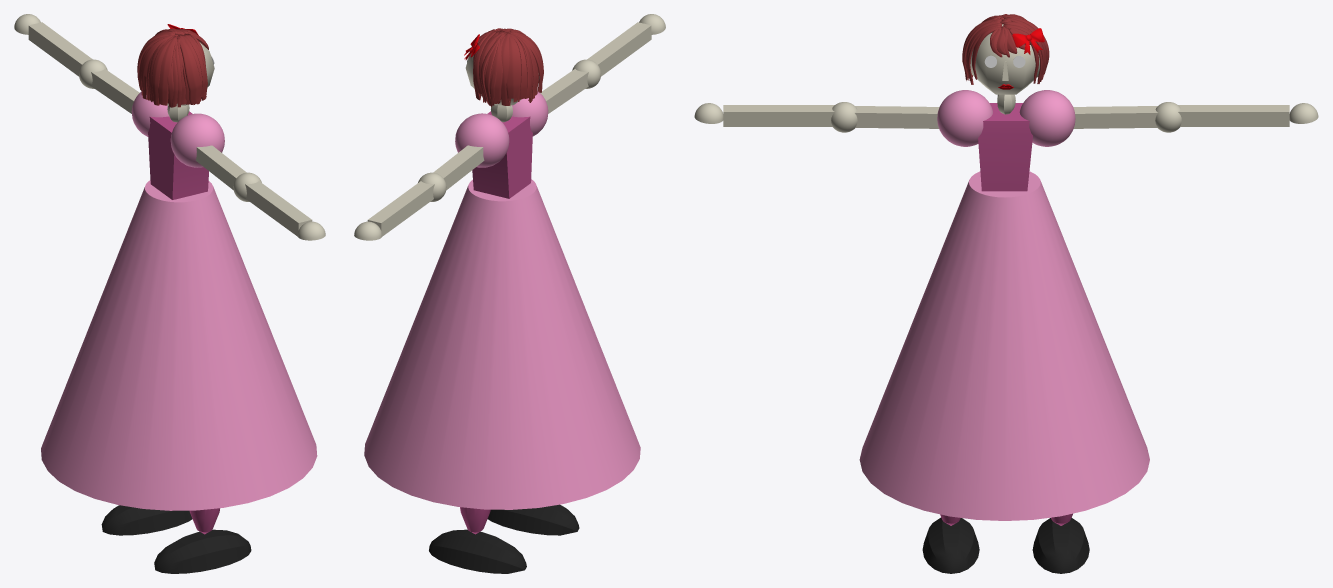
The model's file is KindmitKleid_Puppe.fbx.
The picture shows the model from 3 angles, left to right: view 1: azimuth 30°, elevation 25°; view 2: azimuth 150°, elevation 25°; view 3: azimuth 270°, elevation 25°; orthographic projection. The views are drawn at different scales.
Visible parts, largest first — view 1: Circle.001, HairCleanedUp.001, Sphere.007, Cube.001, Sphere.008, Sphere.009, Cube.003, Cube.006, Cube.005, Cube.002, Sphere.010, Sphere.001 (+2 smaller); view 2: Circle.001, HairCleanedUp.001, Sphere.008, Cube.001, Sphere.007, Sphere.010, Cube.006, Cube.003, Cube.005, Cube.002, Sphere.009, Sphere.003 (+2 smaller); view 3: Circle.001, Cube.001, Cube.003, Cube.006, HairCleanedUp.001, Sphere.007, Sphere.008, Sphere.010, Sphere.009, Sphere.012, Cube.005, Cube.002.
Part boxes in pixels (x1,y1,x2,y2): Circle.001: [41, 180, 317, 510]; HairCleanedUp.001: [137, 28, 208, 107]; Sphere.007: [154, 529, 251, 573]; Cube.001: [148, 111, 208, 199]; Sphere.008: [101, 505, 192, 535]; Sphere.009: [170, 113, 224, 167]; Cube.003: [245, 181, 325, 240]; Cube.006: [14, 14, 92, 76]; Cube.005: [91, 69, 139, 113]; Cube.002: [195, 145, 246, 189]; Sphere.010: [131, 91, 168, 136]; Sphere.001: [189, 508, 219, 534]; Circle.001: [364, 179, 640, 509]; HairCleanedUp.001: [469, 28, 543, 106]; Sphere.008: [429, 529, 526, 573]; Cube.001: [472, 111, 532, 198]; Sphere.007: [487, 504, 579, 535]; Sphere.010: [455, 113, 509, 167]; Cube.006: [354, 181, 434, 240]; Cube.003: [587, 14, 665, 76]; Cube.005: [433, 145, 484, 189]; Cube.002: [540, 69, 588, 113]; Sphere.009: [512, 91, 548, 136]; Sphere.003: [460, 507, 490, 534]; Circle.001: [859, 171, 1149, 520]; Cube.001: [978, 103, 1032, 191]; Cube.003: [694, 103, 834, 126]; Cube.006: [1178, 103, 1318, 126]; HairCleanedUp.001: [962, 14, 1049, 84]; Sphere.007: [922, 517, 979, 573]; Sphere.008: [1032, 518, 1089, 573]; Sphere.010: [1019, 90, 1075, 146]; Sphere.009: [937, 90, 992, 146]; Sphere.012: [970, 24, 1039, 94]; Cube.005: [1073, 106, 1157, 128]; Cube.002: [855, 106, 939, 128].
Bounding box in the file's own units: 48.59 × 98.17 × 104.
